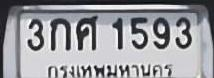1: (111, 17, 122, 48)
3: (174, 16, 191, 48), (26, 18, 43, 50)
5: (130, 15, 147, 48)
9: (152, 16, 169, 48)
A01: (50, 17, 70, 50)
A38: (76, 14, 97, 50)
BKK: (43, 60, 176, 78)
